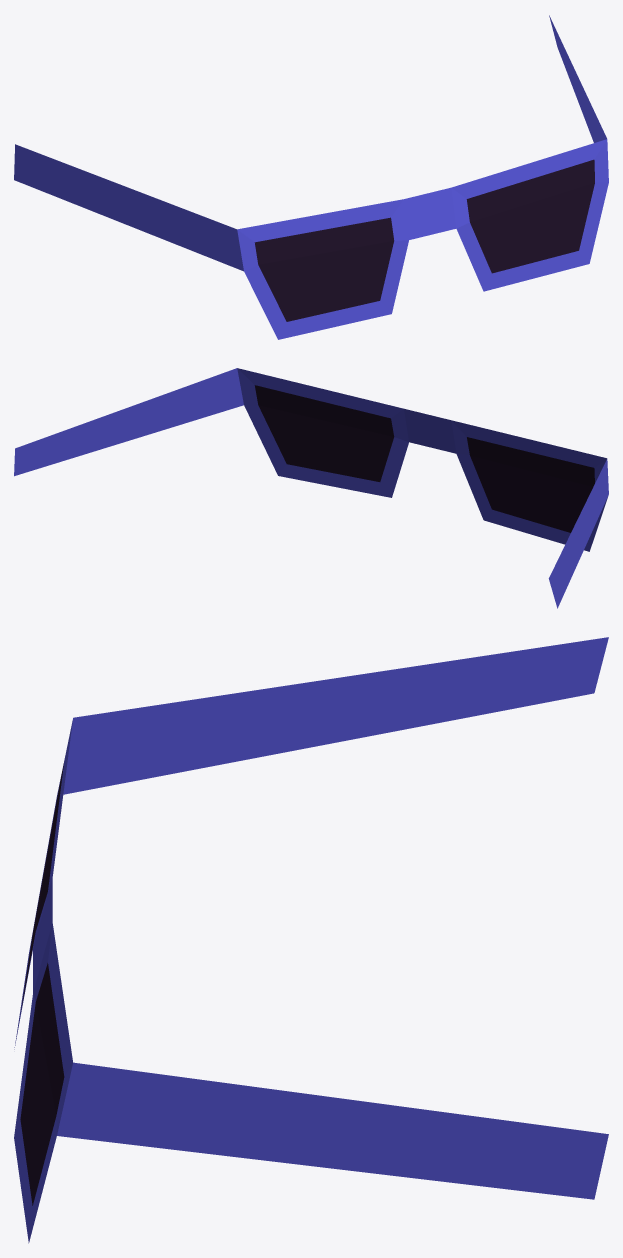
File: glasses_03.glb
3 views of the same model, one above another, from view 1: azimuth 30°, elevation 25°; view 2: azimuth 150°, elevation 25°; view 3: azimuth 270°, elevation 25° (orthographic). The views are drawn at different scales.
Visible parts, largest first — view 1: glasses_03; view 2: glasses_03; view 3: glasses_03.
Boxes of the visible parts, <box> form: glasses_03: <box>14,15,608,339</box>; glasses_03: <box>14,368,608,608</box>; glasses_03: <box>14,637,608,1243</box>.
Bounding box in the file's own units: 1.05 × 0.2053 × 0.5193.
Materials: 1 (1 with a texture image).
